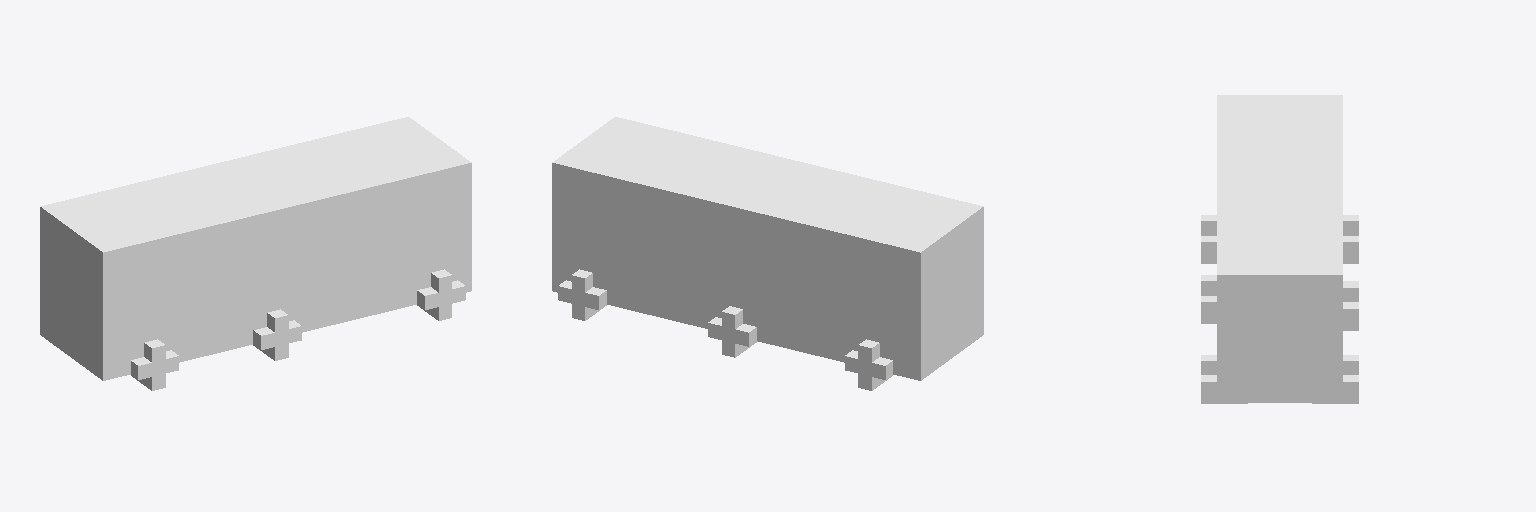
The model's file is autobus_ver2.obj.
3 renders of one model, left to right at view 1: azimuth 30°, elevation 25°; view 2: azimuth 150°, elevation 25°; view 3: azimuth 270°, elevation 25°, orthographic.
Visible parts, largest first — view 1: object 1; view 2: object 1; view 3: object 1.
Boxes of the visible parts, <box> form: object 1: <box>40,117,471,390</box>; object 1: <box>552,117,983,390</box>; object 1: <box>1201,95,1358,403</box>.
Bounding box in the file's own units: 2.7 × 1 × 1.